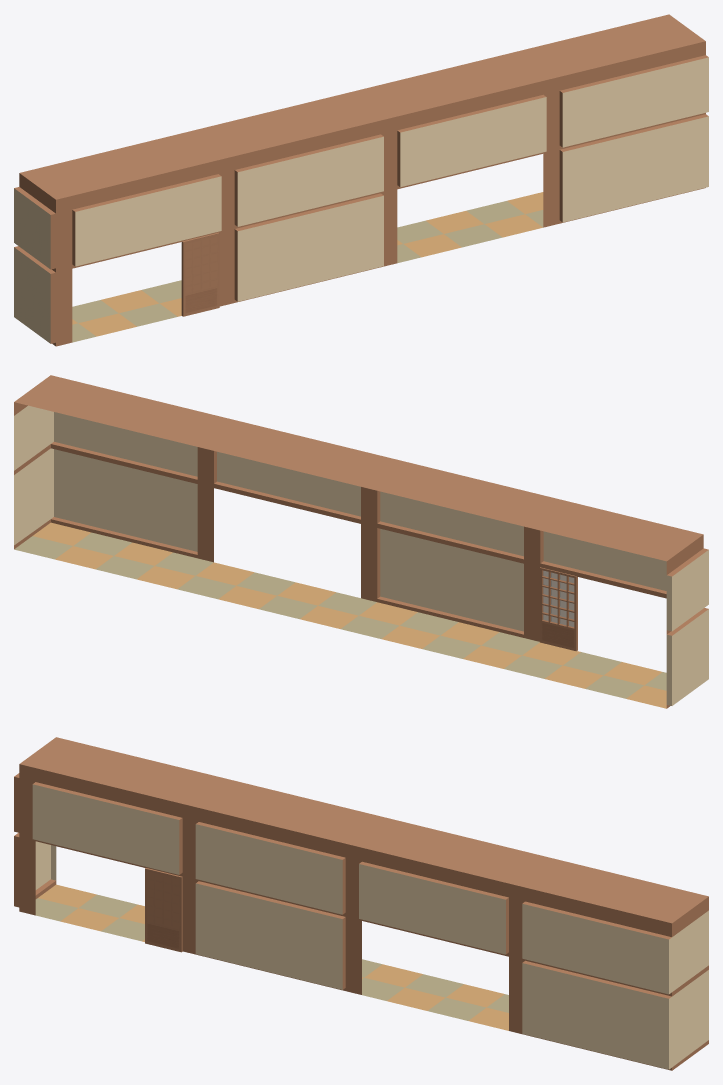
Rendered from rouka.fbx.
The picture shows the model from 3 angles, top to bottom: view 1: azimuth 30°, elevation 25°; view 2: azimuth 150°, elevation 25°; view 3: azimuth 330°, elevation 25°; orthographic projection.
Parts seen in each view (by area): view 1: Map_Corridor, syouji_rouka01; view 2: Map_Corridor, syouji_rouka01; view 3: Map_Corridor, syouji_rouka01.
Part boxes in pixels (<box>): Map_Corridor: <box>14,14,708,346</box>; syouji_rouka01: <box>181,232,219,316</box>; Map_Corridor: <box>14,375,708,708</box>; syouji_rouka01: <box>539,567,577,651</box>; Map_Corridor: <box>14,737,708,1070</box>; syouji_rouka01: <box>145,868,182,952</box>.
Bounding box in the file's own units: 1655 × 355 × 174.
